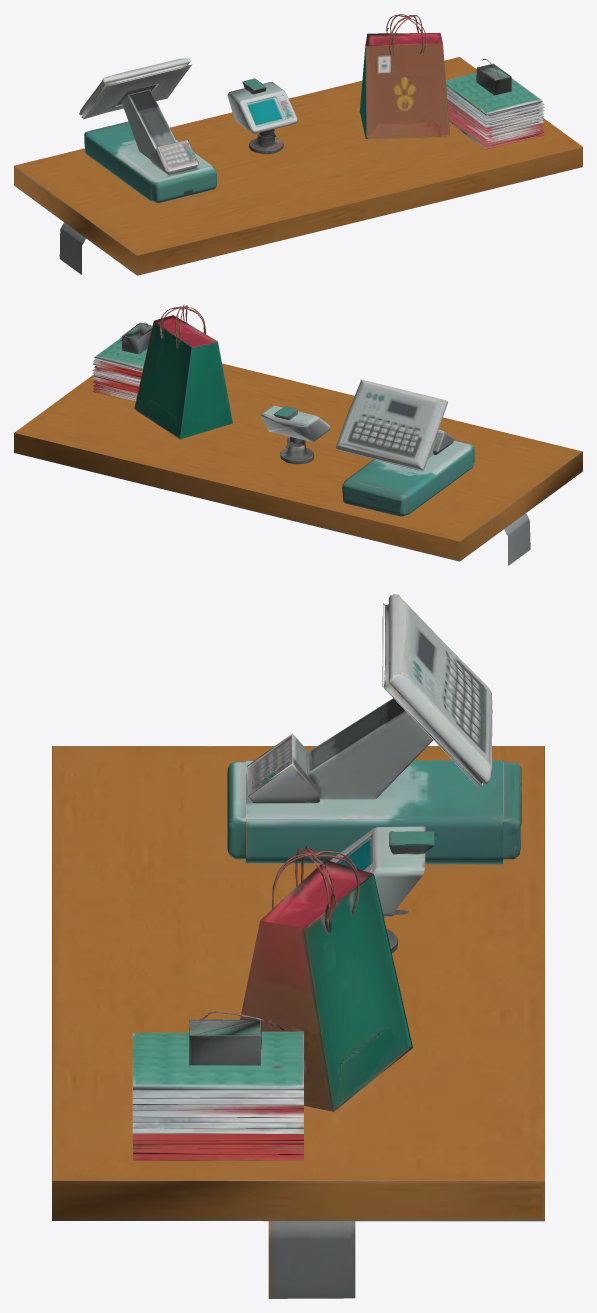
File: register.glb
3 renders of one model, top to bottom at view 1: azimuth 30°, elevation 25°; view 2: azimuth 150°, elevation 25°; view 3: azimuth 270°, elevation 25°, orthographic. The views are drawn at different scales.
Size of the model in its own units: 0.9565 by 0.3423 by 0.4546.
1 material, 1 textured.
